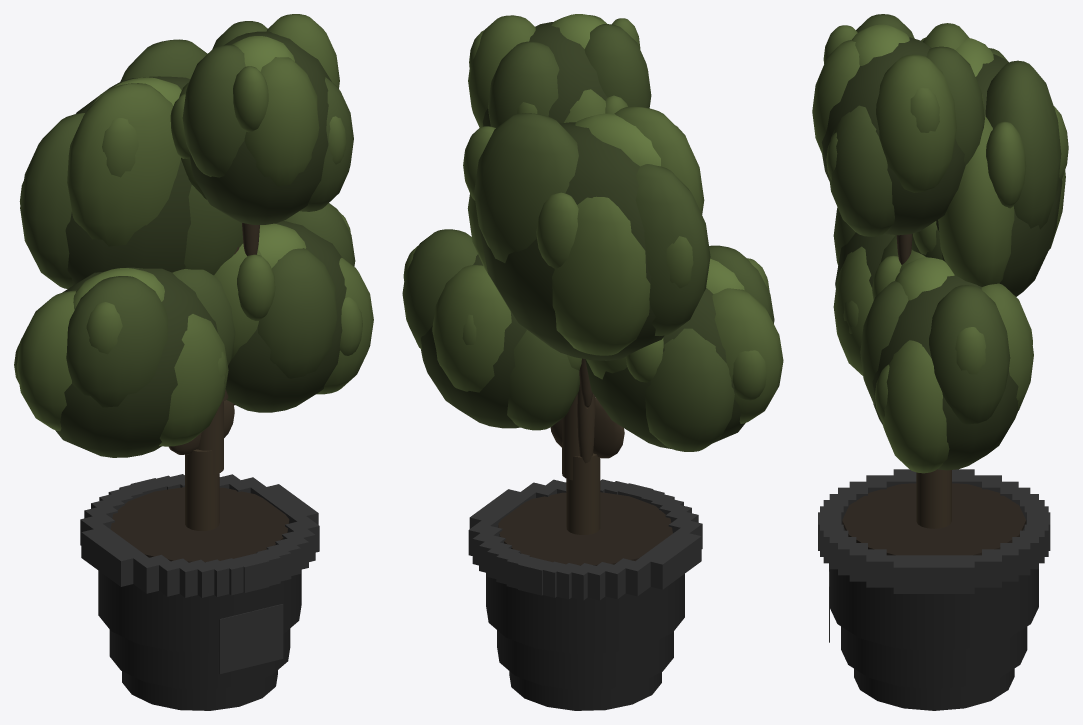
File: CMU3DPottedPlant19.glb
The picture shows the model from 3 angles, left to right: view 1: azimuth 30°, elevation 25°; view 2: azimuth 150°, elevation 25°; view 3: azimuth 270°, elevation 25°; orthographic projection. The views are drawn at different scales.
Visible parts, largest first — view 1: rounded irregular leaf spray (×17), shadowed foliage core (×4), fine leafy crown edge (×7), upper pot wall, recessed soil, hollow curved planter rim (×8), lower tapered pot wall, crown highlight (×4), branch (×2), pot front highlight, narrow pot foot; view 2: rounded irregular leaf spray (×14), shadowed foliage core (×4), upper pot wall, recessed soil, fine leafy crown edge (×5), hollow curved planter rim (×6), lower tapered pot wall, branch (×4), crown highlight (×3), narrow pot foot; view 3: rounded irregular leaf spray (×14), shadowed foliage core (×4), upper pot wall, recessed soil, hollow curved planter rim (×7), fine leafy crown edge (×8), lower tapered pot wall, crown highlight (×3), narrow pot foot, branch.
Part boxes in pixels (box(x1,y1,x2,y2)): rounded irregular leaf spray (×17): box(16, 14, 373, 446); shadowed foliage core (×4): box(55, 31, 346, 457); fine leafy crown edge (×7): box(86, 66, 362, 355); upper pot wall: box(98, 569, 301, 652); recessed soil: box(110, 487, 289, 562); hollow curved planter rim (×8): box(80, 477, 319, 597); lower tapered pot wall: box(109, 628, 290, 689); crown highlight (×4): box(73, 36, 306, 309); branch (×2): box(185, 401, 223, 530); pot front highlight: box(219, 604, 283, 673); narrow pot foot: box(122, 670, 277, 710); rounded irregular leaf spray (×14): box(402, 15, 783, 451); shadowed foliage core (×4): box(421, 22, 745, 448); upper pot wall: box(486, 573, 684, 653); recessed soil: box(498, 492, 672, 565); fine leafy crown edge (×5): box(463, 126, 766, 400); hollow curved planter rim (×6): box(468, 482, 702, 600); lower tapered pot wall: box(497, 630, 673, 689); branch (×4): box(562, 383, 624, 534); crown highlight (×3): box(551, 14, 744, 293); narrow pot foot: box(509, 671, 661, 710); rounded irregular leaf spray (×14): box(812, 14, 1061, 473); shadowed foliage core (×4): box(821, 37, 1062, 470); upper pot wall: box(829, 527, 1038, 651); recessed soil: box(842, 483, 1026, 555); hollow curved planter rim (×7): box(838, 475, 1030, 593); fine leafy crown edge (×8): box(823, 25, 1068, 423); lower tapered pot wall: box(841, 626, 1027, 688); crown highlight (×3): box(852, 24, 993, 300); narrow pot foot: box(854, 668, 1014, 710); branch: box(916, 470, 951, 528).
Bounding box in the file's own units: 0.6474 × 1.13 × 0.3965.
